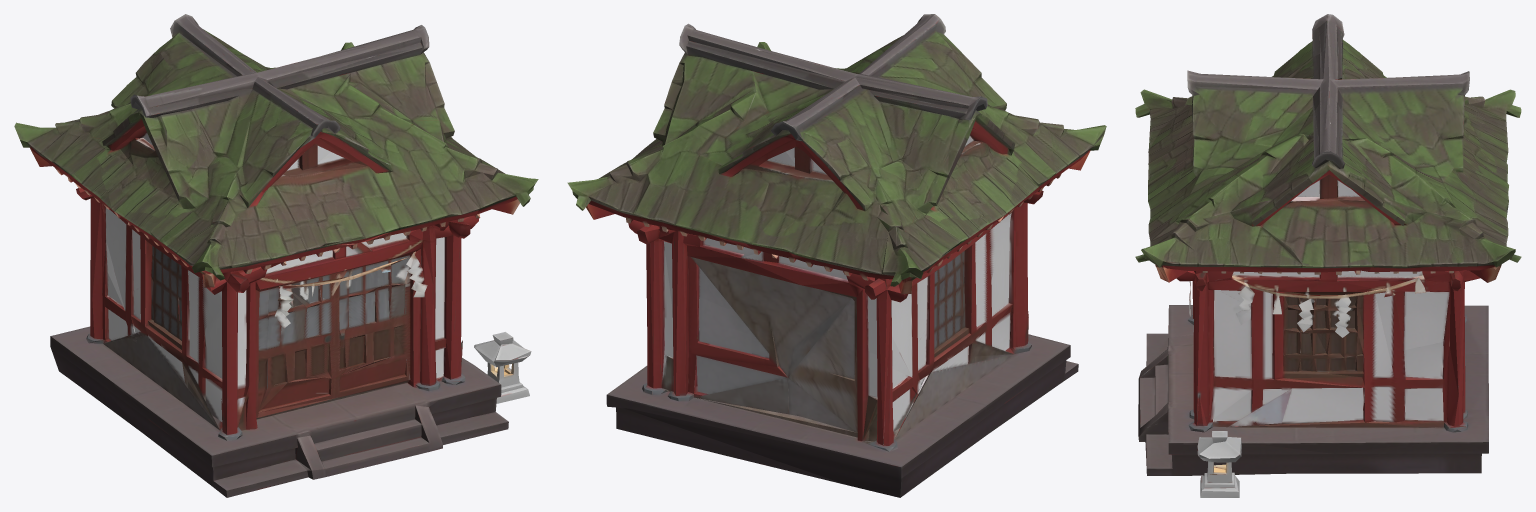
Rendered from onmyo_office.glb.
3 renders of one model, left to right at view 1: azimuth 30°, elevation 25°; view 2: azimuth 150°, elevation 25°; view 3: azimuth 270°, elevation 25°, orthographic. The views are drawn at different scales.
Parts seen in each view (by area): view 1: onmyo_office; view 2: onmyo_office; view 3: onmyo_office.
Part boxes in pixels (x1,y1,x2,y2): onmyo_office: [14, 14, 538, 497]; onmyo_office: [567, 14, 1106, 497]; onmyo_office: [1135, 14, 1521, 497].
Bounding box in the file's own units: 9.04 × 8 × 8.54.
1 material, 1 textured.
